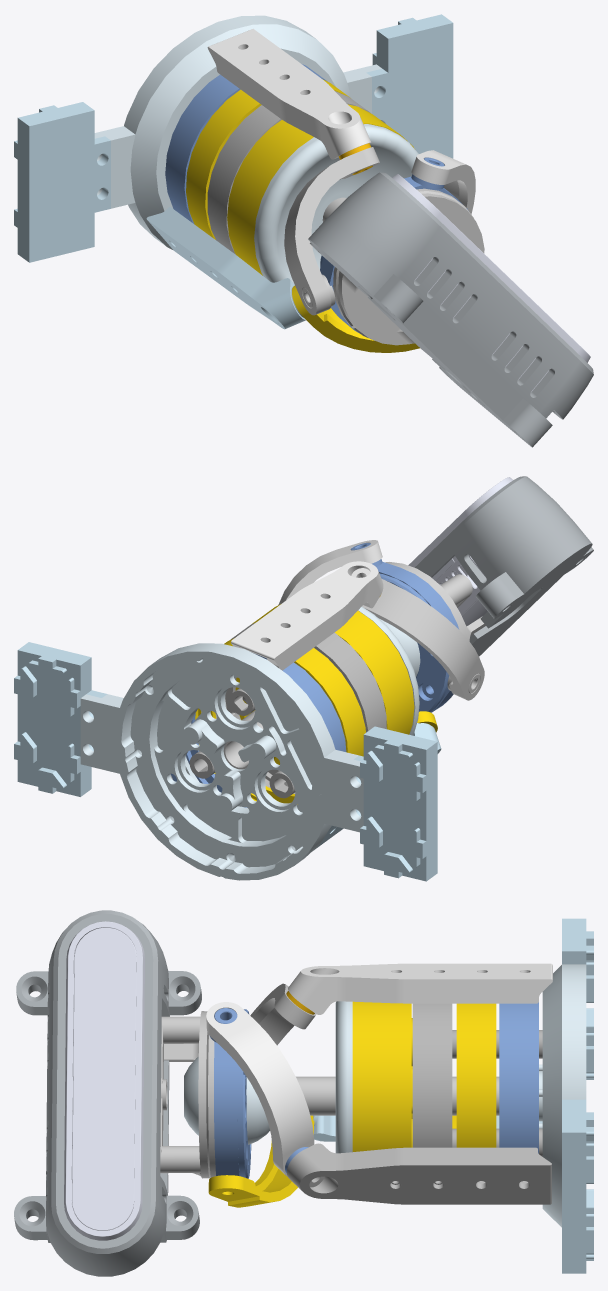
Rendered from Humanoid Neck.glb.
The picture shows the model from 3 angles, top to bottom: view 1: azimuth 30°, elevation 25°; view 2: azimuth 150°, elevation 25°; view 3: azimuth 270°, elevation 25°; orthographic projection. The views are drawn at different scales.
Visible parts, largest first — view 1: Case D435i, Part 1 (×3), MP00001_Basement, MP00005_Arm_2, PP00013_Cap, MP00005_Arm, Rear Closure, PP00012_Top, MP00006_Moon arm_1, PP00016_Plate, MP00003_Crown_1, MP00003_Crown (+4 smaller); view 2: MP00001_Basement, Part 1 (×3), Case D435i, MP00005_Arm_2, MP00006_Moon arm_1, PP00012_Top, Rear Closure, MP00003_Crown_1, MP00003_Crown_2, MP00006_Moon arm_2, MP00003_Crown, PP00016_Plate_1 (+6 smaller); view 3: Part 1 (×3), Case D435i, MP00005_Arm_1, MP00005_Arm_2, PP00012_Top, MP00001_Basement, MP00006_Moon arm_2, MP00003_Crown_2, MP00003_Crown_1, MP00003_Crown, PP00016_Plate, MP00015_Plate ring (+8 smaller).
Boxes of the visible parts, x1,y1,x2,y2 form: Case D435i: (317, 172, 593, 437); Part 1 (×3): (14, 14, 590, 391); MP00001_Basement: (94, 15, 381, 249); MP00005_Arm_2: (207, 29, 371, 159); PP00013_Cap: (254, 124, 418, 284); MP00005_Arm: (146, 207, 305, 329); Rear Closure: (308, 229, 540, 447); PP00012_Top: (227, 104, 414, 275); MP00006_Moon arm_1: (284, 147, 379, 315); PP00016_Plate: (333, 188, 484, 345); MP00003_Crown_1: (186, 79, 349, 239); MP00003_Crown: (165, 64, 327, 224); MP00001_Basement: (80, 643, 363, 880); Part 1 (×3): (14, 477, 513, 881); Case D435i: (415, 476, 583, 608); MP00005_Arm_2: (231, 561, 383, 670); MP00006_Moon arm_1: (362, 579, 484, 700); PP00012_Top: (235, 604, 414, 764); Rear Closure: (469, 534, 593, 656); MP00003_Crown_1: (195, 638, 365, 804); MP00003_Crown_2: (215, 623, 386, 793); MP00006_Moon arm_2: (278, 540, 382, 604); MP00003_Crown: (170, 653, 346, 807); PP00016_Plate_1: (379, 573, 448, 711); Part 1 (×3): (64, 918, 593, 1273); Case D435i: (14, 910, 201, 1276); MP00005_Arm_1: (287, 1143, 551, 1204); MP00005_Arm_2: (288, 963, 552, 1014); PP00012_Top: (352, 1001, 412, 1151); MP00001_Basement: (539, 964, 586, 1227); MP00006_Moon arm_2: (206, 1002, 314, 1176); MP00003_Crown_2: (391, 1003, 452, 1184); MP00003_Crown_1: (452, 1003, 496, 1147); MP00003_Crown: (499, 1002, 538, 1153); PP00016_Plate: (160, 1011, 215, 1178); MP00015_Plate ring: (214, 1041, 239, 1176).
Size of the model in its own units: 0.13 by 0.0802 by 0.1489.
